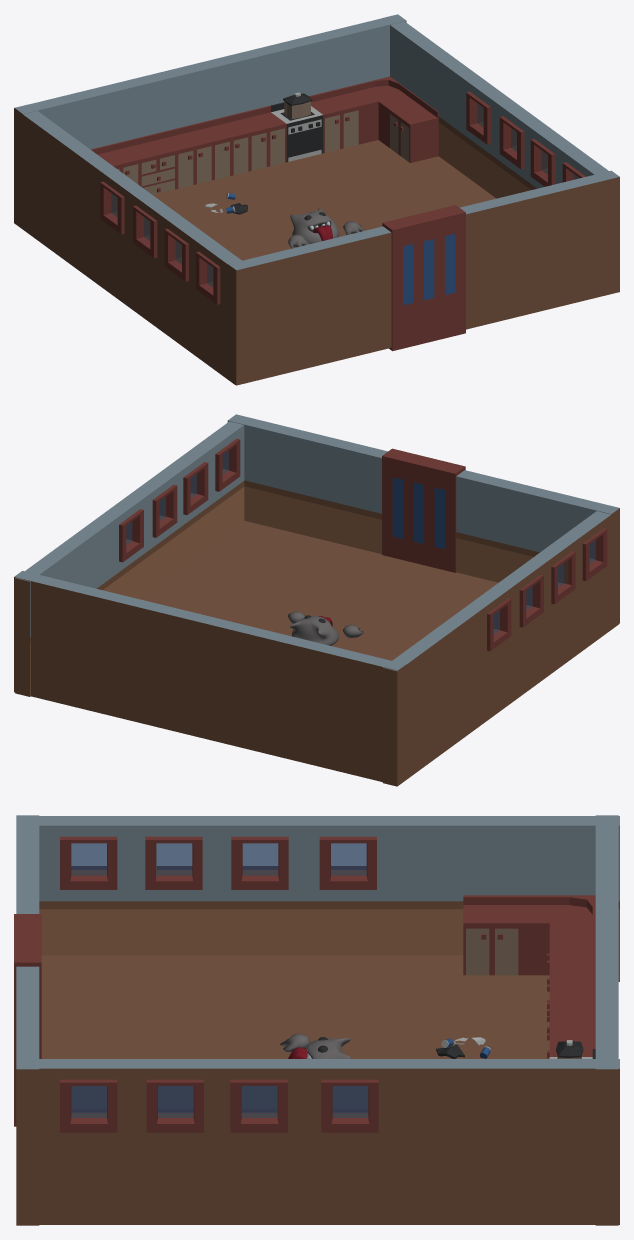
The model's file is room.fbx.
The picture shows the model from 3 angles, top to bottom: view 1: azimuth 30°, elevation 25°; view 2: azimuth 150°, elevation 25°; view 3: azimuth 270°, elevation 25°; orthographic projection. The views are drawn at different scales.
Parts seen in each view (by area): view 1: wall.003, wall.002, wall.001, Plane, wall.004, Cube, Cube.001, table_corner.001, Cube.010, Cube.009, Cube.012, Cube.014 (+11 smaller); view 2: wall.001, wall.002, Plane, wall.003, wall.004, Cube, window.004, window.005, window.006, window.003, window.007, window (+3 smaller); view 3: wall.004, wall.002, Plane, wall.001, wall.003, Cube.016, table_corner, window.001, window.002, window.006, window.007, window (+11 smaller).
Boxes of the visible parts, box(x1,y1,x2,y2) form: wall.003: box(228, 170, 619, 385); wall.002: box(14, 104, 241, 384); wall.001: box(14, 14, 406, 228); Plane: box(153, 140, 495, 260); wall.004: box(383, 15, 608, 198); Cube: box(382, 205, 465, 351); Cube.001: box(389, 96, 438, 162); table_corner.001: box(343, 76, 416, 147); Cube.010: box(160, 123, 213, 188); Cube.009: box(197, 115, 249, 179); Cube.012: box(233, 106, 286, 171); Cube.014: box(309, 88, 359, 153); wall.001: box(14, 570, 406, 785); wall.002: box(382, 509, 618, 786); Plane: box(138, 520, 498, 660); wall.003: box(227, 414, 619, 623); wall.004: box(15, 421, 244, 696); Cube: box(382, 448, 465, 572); window.004: box(215, 438, 240, 491); window.005: box(183, 462, 208, 514); window.006: box(152, 484, 177, 537); window.003: box(582, 528, 607, 581); window.007: box(119, 509, 143, 562); window: box(487, 598, 511, 651); wall.004: box(39, 1059, 619, 1224); wall.002: box(39, 816, 619, 981); Plane: box(41, 955, 549, 1108); wall.001: box(595, 815, 618, 1225); wall.003: box(16, 815, 39, 1225); Cube.016: box(463, 895, 520, 975); table_corner: box(521, 895, 595, 975); window.001: box(231, 836, 288, 889); window.002: box(145, 836, 202, 889); window.006: box(230, 1079, 287, 1132); window.007: box(321, 1079, 378, 1132); window: box(319, 836, 376, 889).
Size of the model in its own units: 2123 by 659 by 2109.
